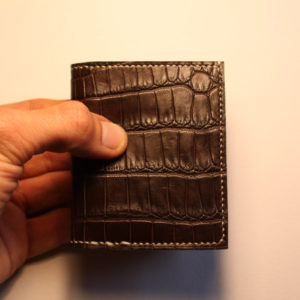monedero: (68, 58, 232, 252)
